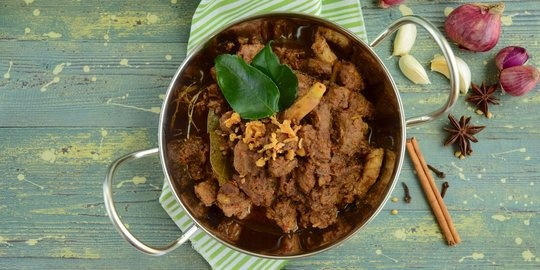rendang: (180, 37, 387, 237)
